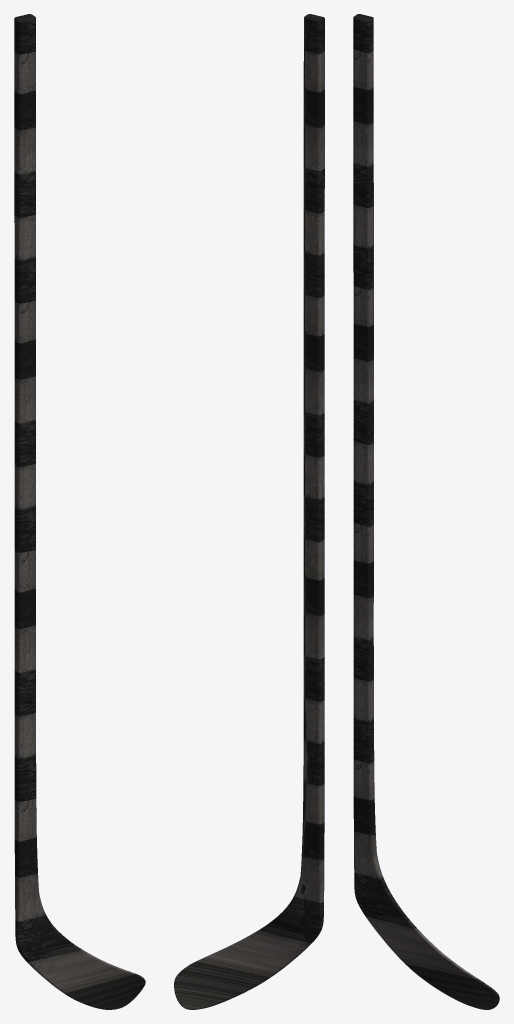
3 views of the same model, side by side, from view 1: azimuth 30°, elevation 25°; view 2: azimuth 150°, elevation 25°; view 3: azimuth 330°, elevation 25° (orthographic). The views are drawn at different scales.
Parts seen in each view (by area): view 1: geometry_0; view 2: geometry_0; view 3: geometry_0.
Part boxes in pixels (bbox=[...]): geometry_0: bbox=[14, 14, 145, 1009]; geometry_0: bbox=[174, 14, 324, 1009]; geometry_0: bbox=[353, 14, 499, 1009].
Size of the model in its own units: 236 by 1650 by 57.61.
1 material, 1 textured.
